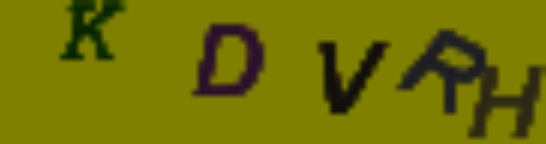D: (185, 19, 269, 103)
H: (462, 62, 546, 141)
K: (55, 1, 124, 64)
R: (397, 24, 488, 117)
V: (311, 36, 391, 121)
